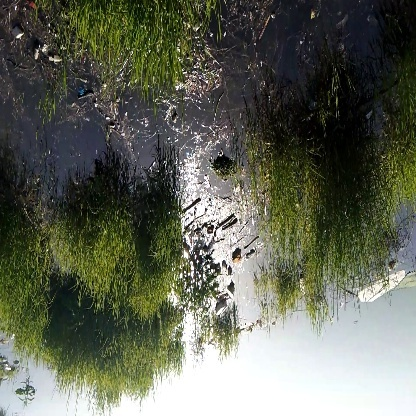plastic-bag: (355, 267, 407, 306)
